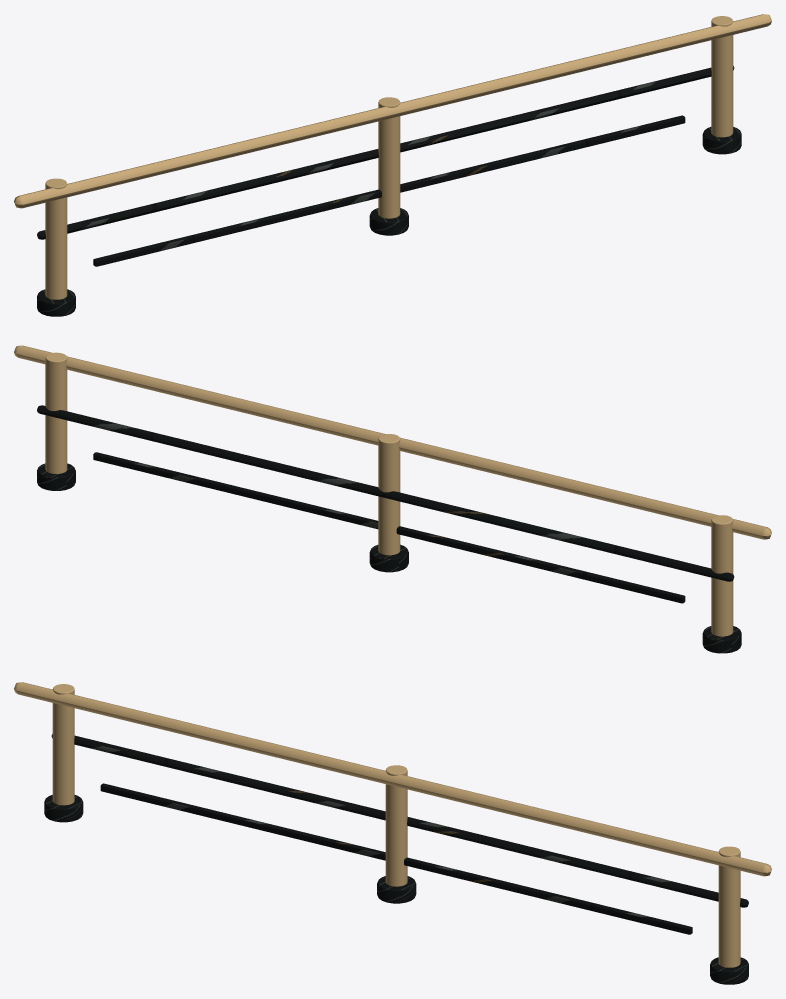
Rendered from hp_room_museum_low_barrier.glb.
The picture shows the model from 3 angles, top to bottom: view 1: azimuth 30°, elevation 25°; view 2: azimuth 150°, elevation 25°; view 3: azimuth 330°, elevation 25°; orthographic projection.
Visible parts, largest first — view 1: barrier_post, barrier_foot; view 2: barrier_post, barrier_foot; view 3: barrier_post, barrier_foot.
Boxes of the visible parts, box(x1,y1,x2,y2) form: barrier_post: box(14, 14, 771, 299); barrier_foot: box(37, 66, 741, 316); barrier_post: box(14, 345, 771, 636); barrier_foot: box(37, 405, 741, 653); barrier_post: box(14, 682, 771, 967); barrier_foot: box(44, 734, 748, 984).
Bounding box in the file's own units: 2.55 × 0.407 × 0.1137.
Materials: 2 (1 with a texture image).
